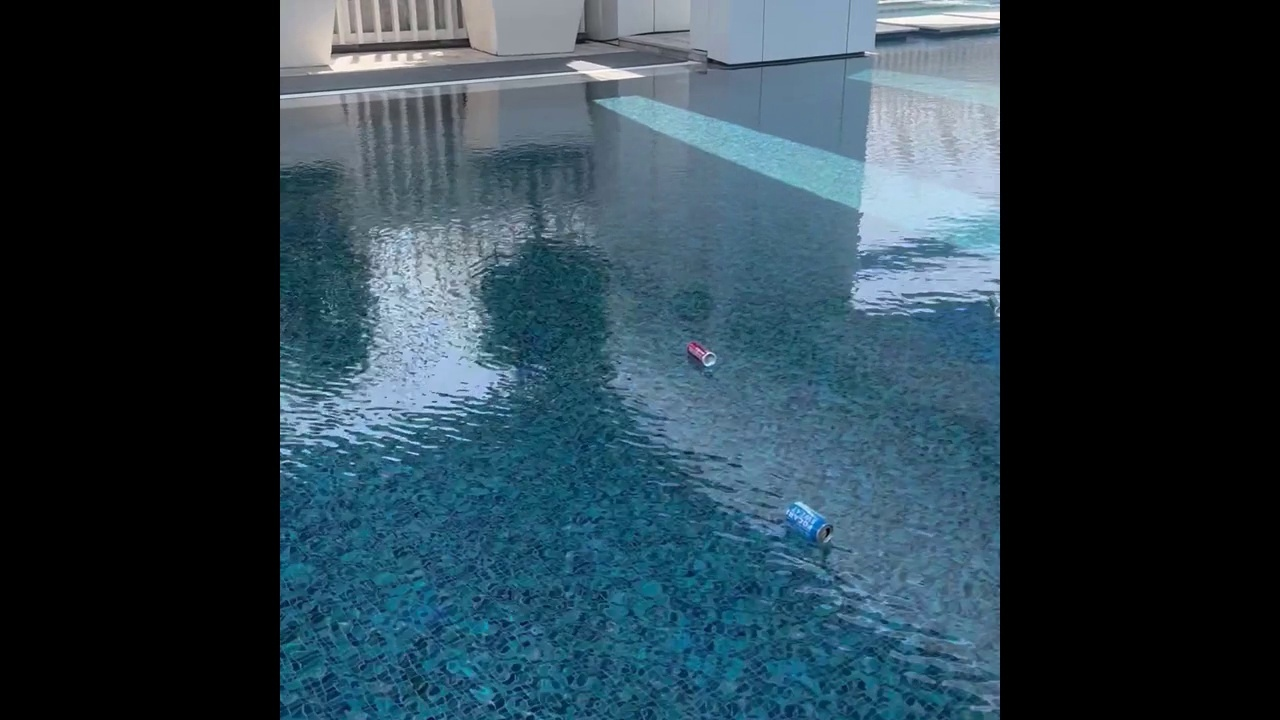debris: (777, 496, 837, 549), (682, 340, 717, 370)
